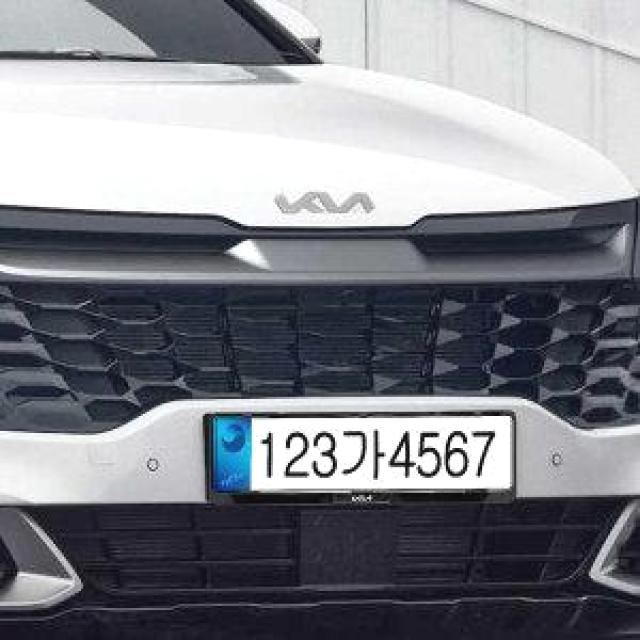illegal_plate: (211, 409, 518, 502)
